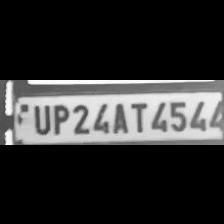2: (70, 100, 90, 134)
4: (90, 99, 110, 133), (148, 98, 168, 132), (187, 97, 207, 131), (206, 96, 222, 130)
5: (166, 97, 186, 130)
A: (108, 99, 128, 133)
P: (49, 101, 69, 135)
T: (127, 98, 147, 132)
U: (30, 100, 50, 134)
